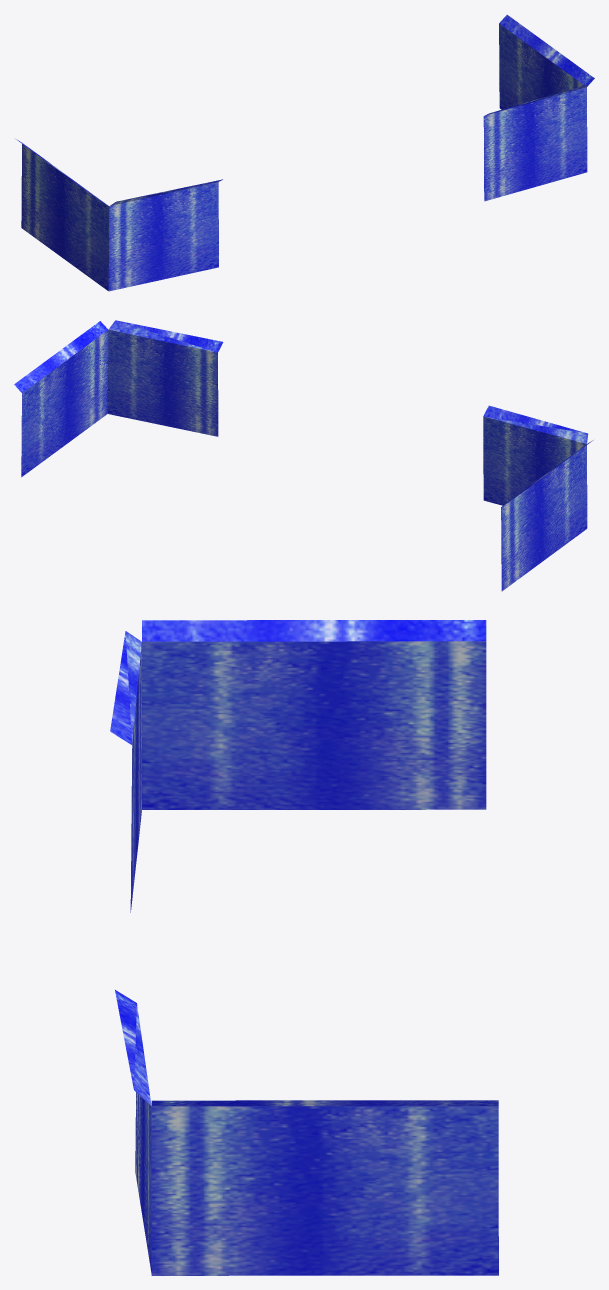
3 views of the same model, one above another, from view 1: azimuth 30°, elevation 25°; view 2: azimuth 150°, elevation 25°; view 3: azimuth 270°, elevation 25° (orthographic). The views are drawn at different scales.
Bounding box in the file's own units: 0.5339 × 0.0946 × 0.1825.
1 material, 1 textured.
